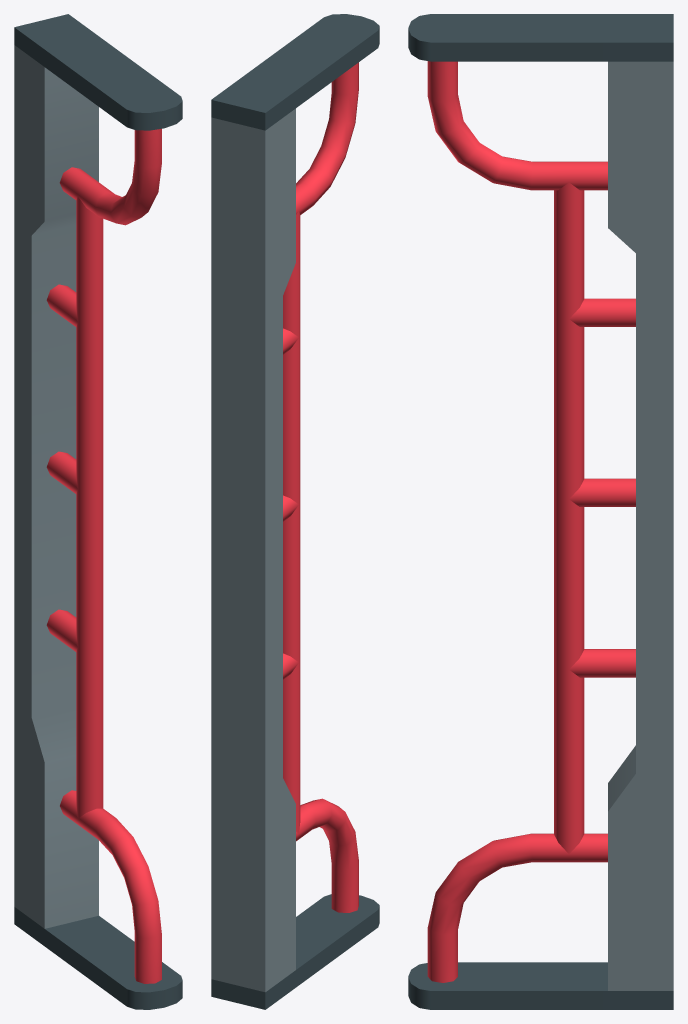
Rendered from Column_007.fbx.
3 renders of one model, left to right at view 1: azimuth 30°, elevation 25°; view 2: azimuth 150°, elevation 25°; view 3: azimuth 270°, elevation 25°, orthographic. The views are drawn at different scales.
Visible parts, largest first — view 1: Column_007; view 2: Column_007; view 3: Column_007.
Part boxes in pixels (box(x1,y1,x2,y2)): Column_007: box(14, 14, 182, 1009); Column_007: box(211, 14, 379, 1009); Column_007: box(408, 14, 673, 1009).
Bounding box in the file's own units: 24.06 × 94.57 × 380.
